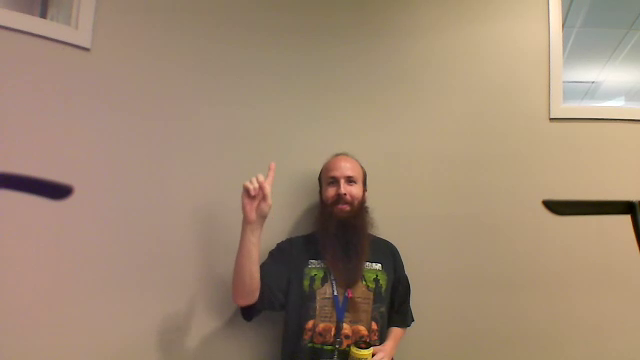up: (234, 158, 280, 236)
